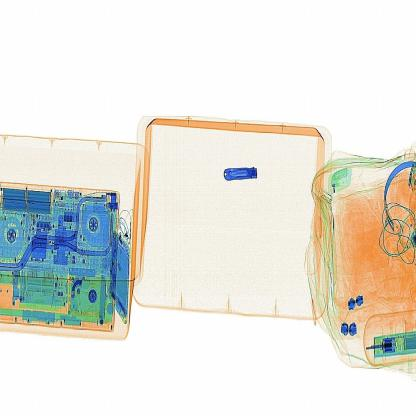knife: (209, 156, 268, 191)
